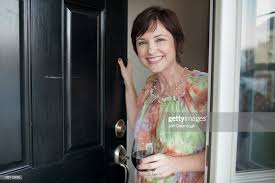white_female: (136, 17, 182, 81)
